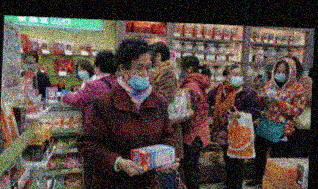mask_weared_incorrect: (124, 59, 151, 91)
with_mask: (228, 70, 244, 88), (274, 66, 290, 83), (23, 58, 38, 72), (178, 63, 189, 80), (77, 66, 88, 79)
